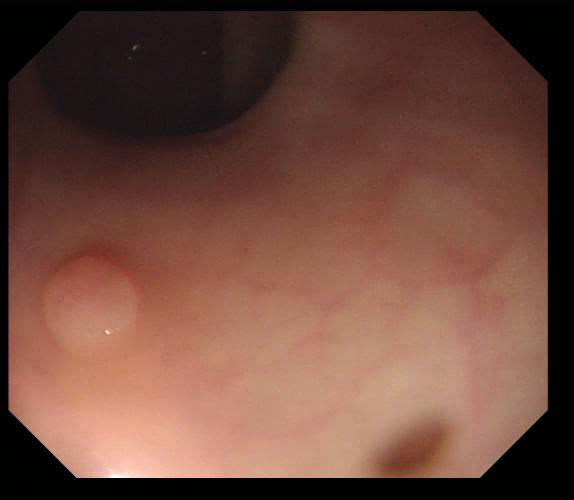polyp: (39, 252, 148, 358)
